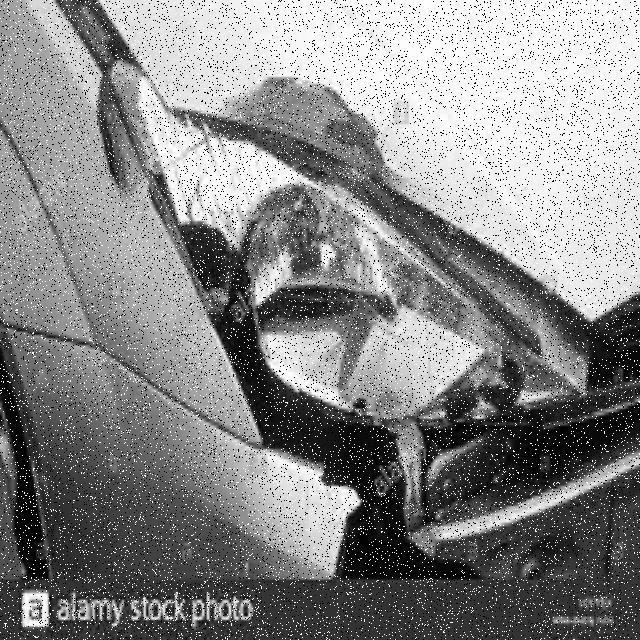Headlight-damage: (137, 94, 524, 436)
front-bumper-dent: (3, 399, 638, 590)
